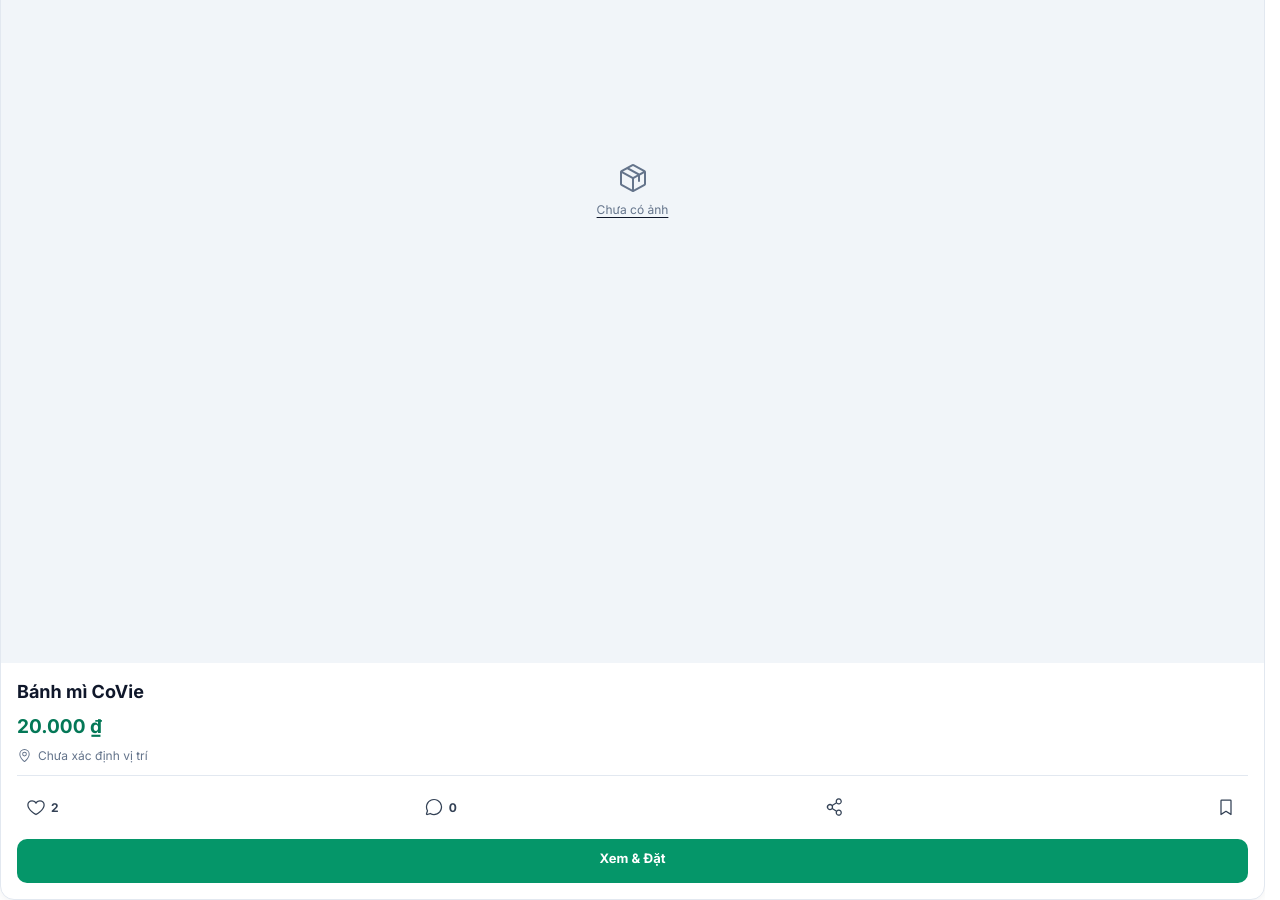
it: Phase 2 social card › does not fabricate likes after an unsuccessful server mutation
(page scrolled)
Click the button named "Thích Bánh mì CoVie".
click(42, 807)  # box [17, 785, 68, 829]
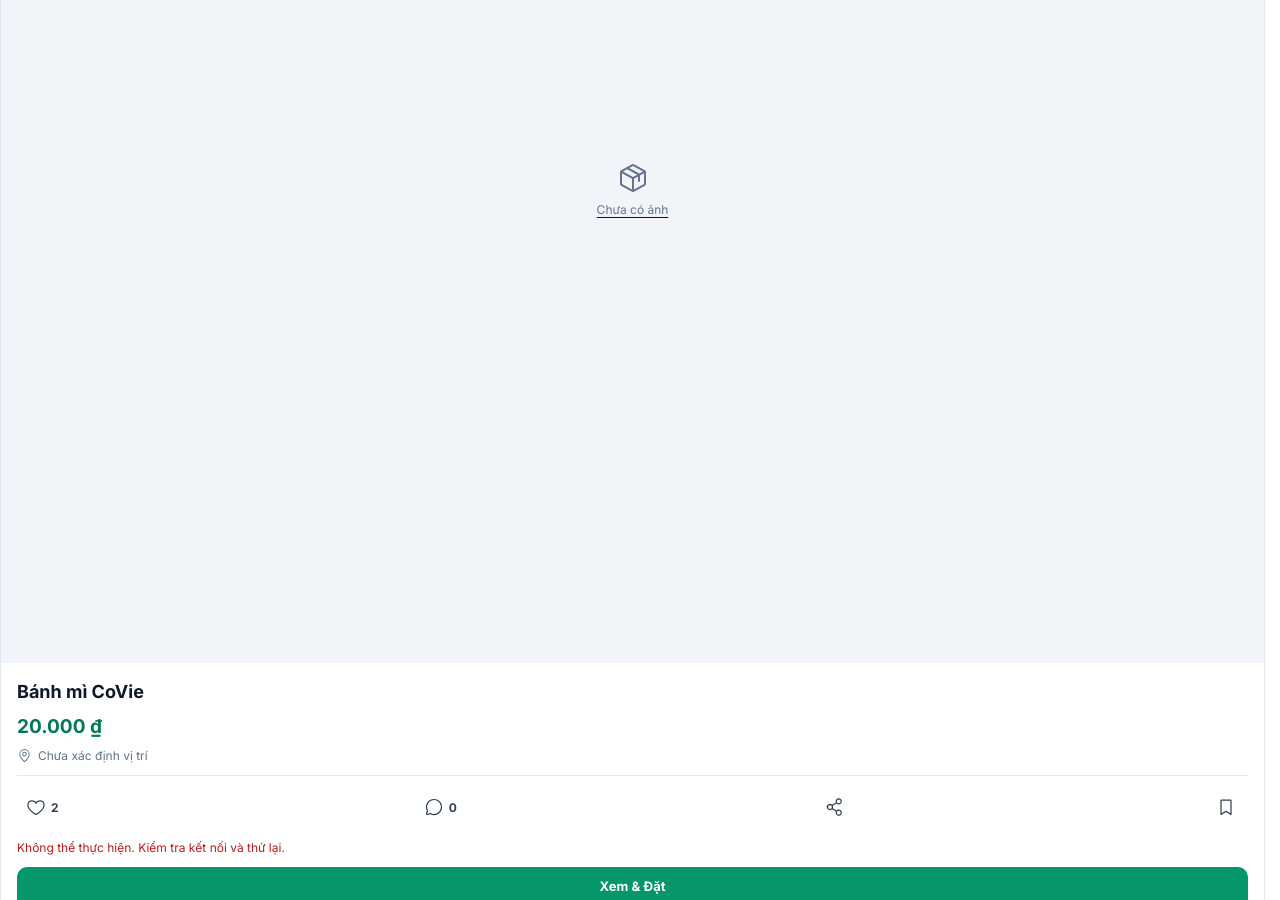
Expected: the text "Không thể thực hiện. Kiểm tra kết nối và thử lại." is shown, [17, 840, 285, 855]
